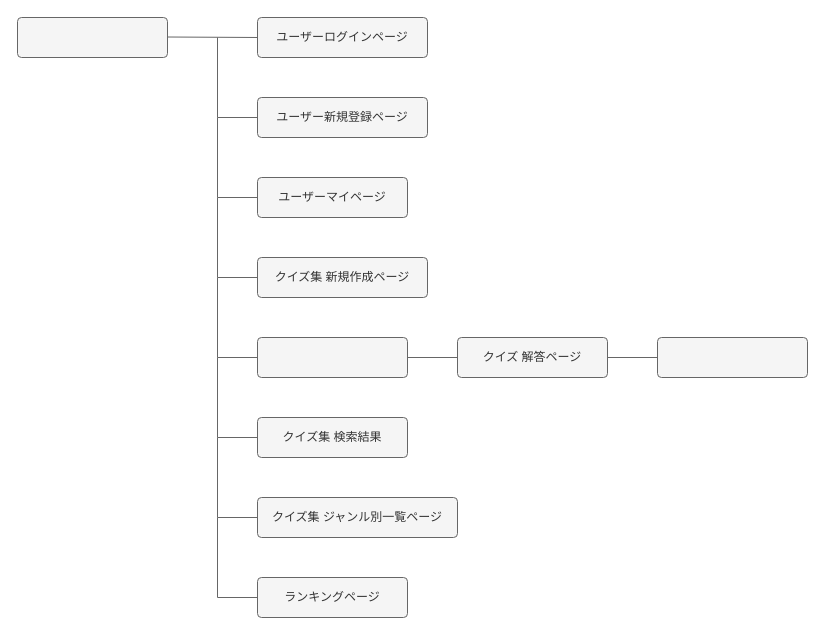
Some shapes in this 825 by 635 pixel diagram are drawn without their labels. Here are the shapes that lost their labels. From the top down, the centre of each, then its label:
At [92,37]: "クイズ集 一覧ページ".
At [332,357]: "クイズ集 詳細ページ".
At [732,357]: "クイズ 結果ページ".
